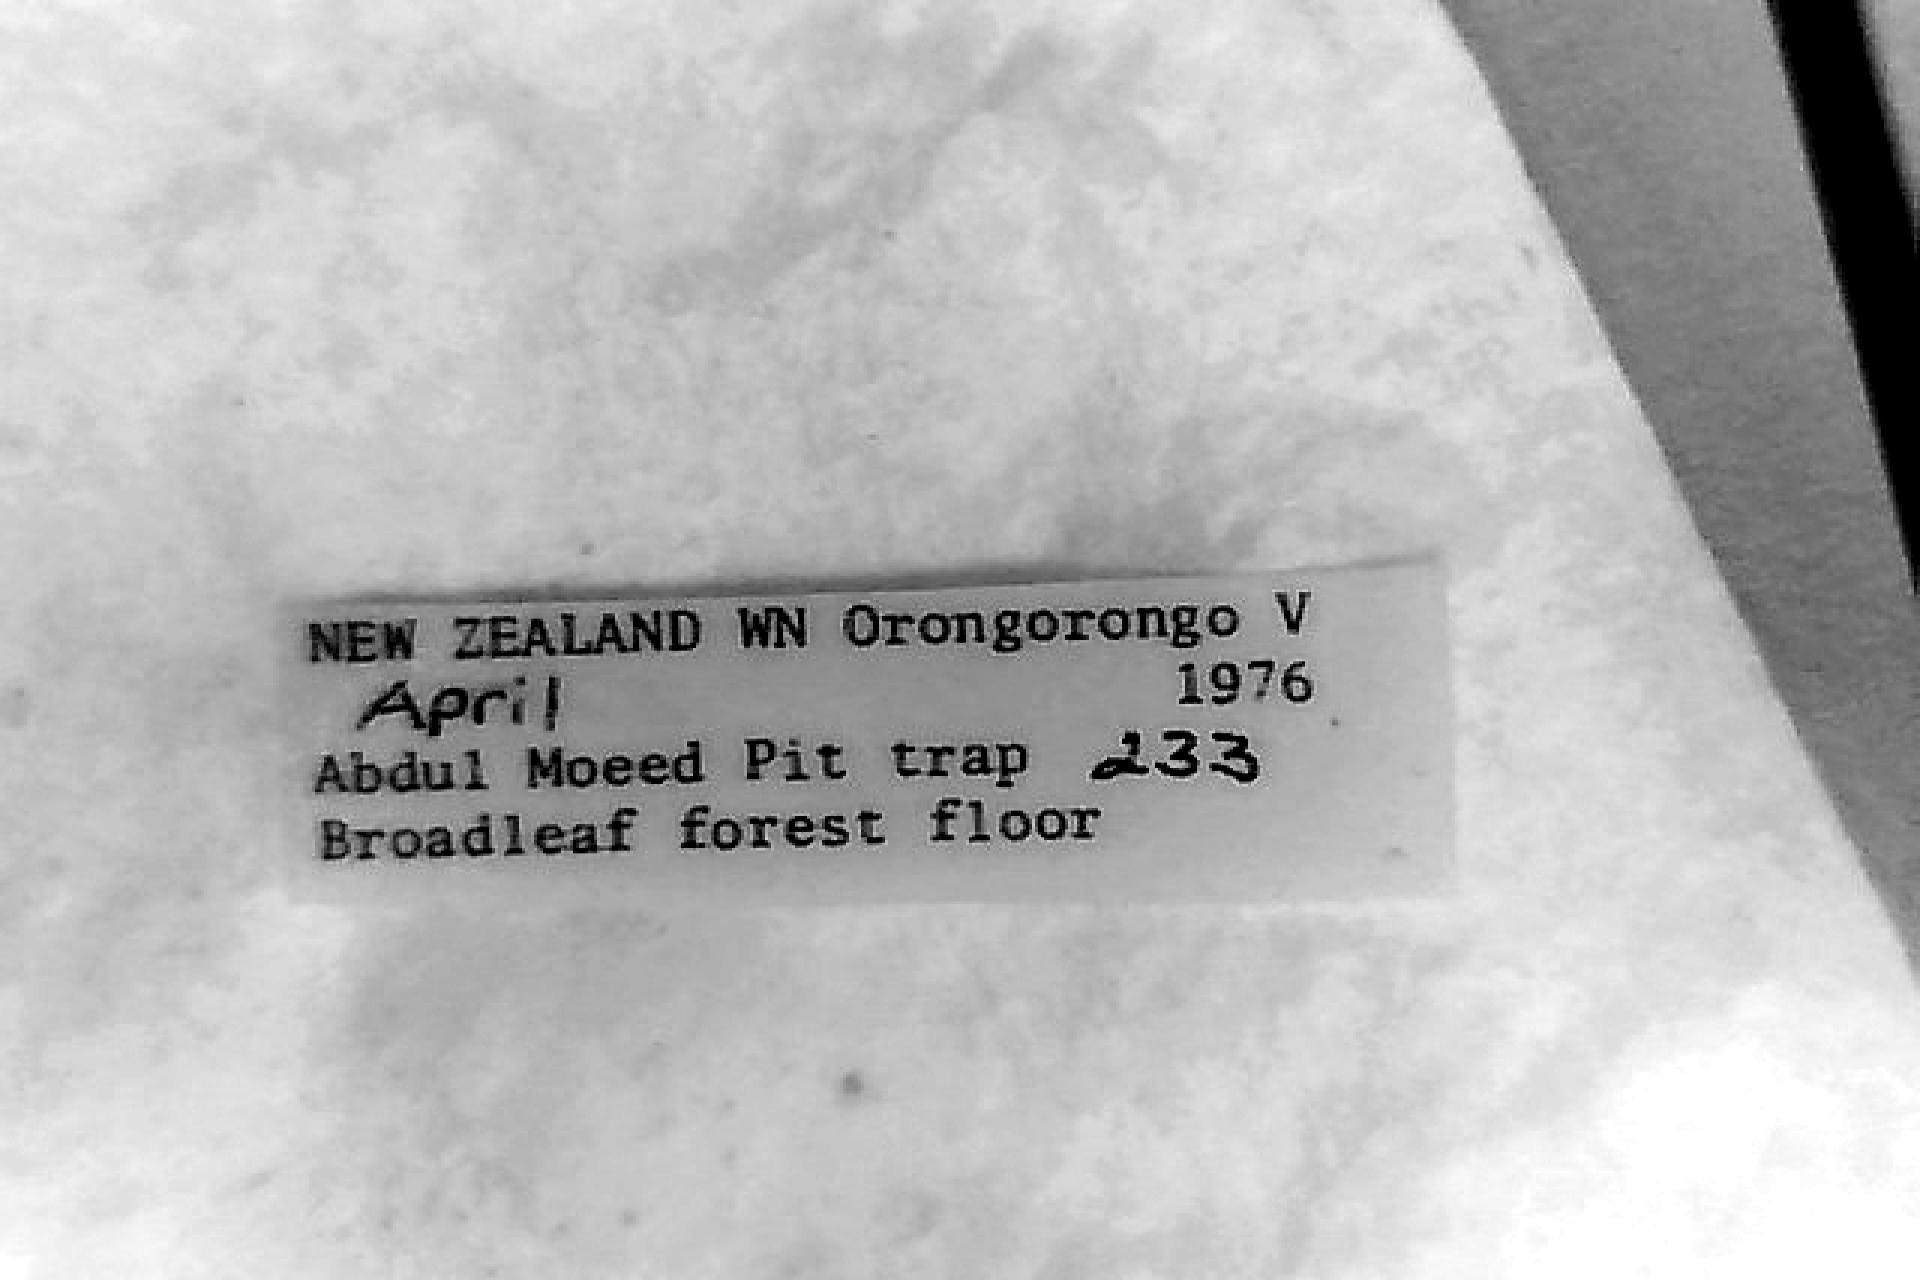mixed_label: (286, 567, 1451, 899)
